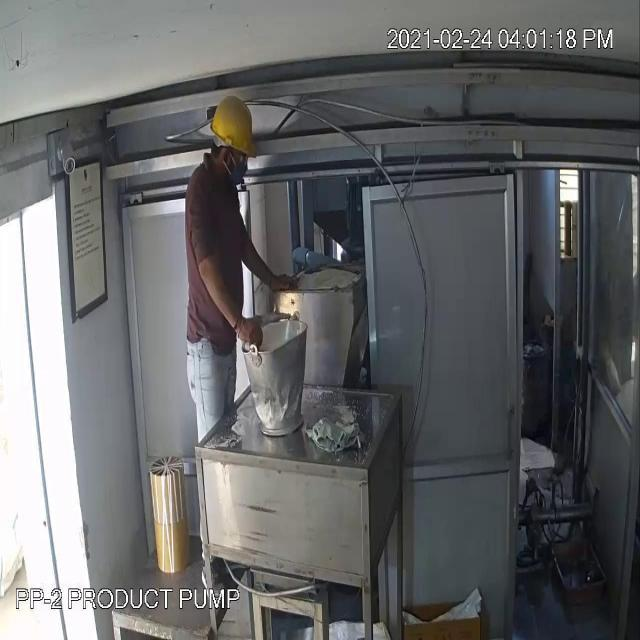hat: (200, 89, 266, 168)
